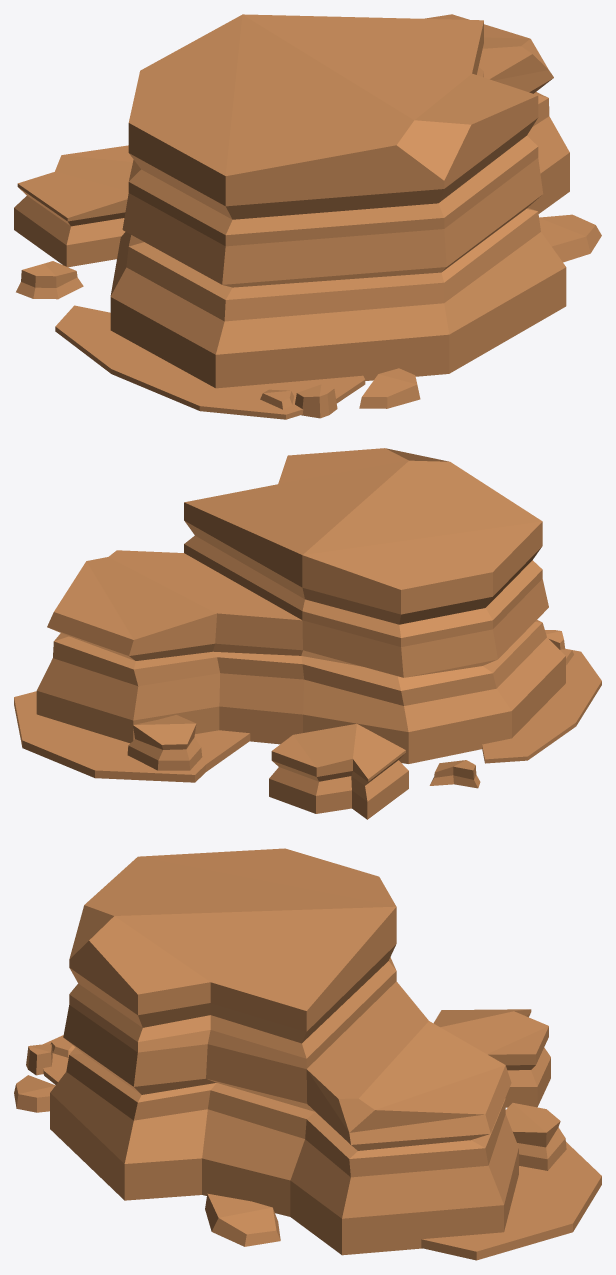
File: SandRocks_M1_LOD1.fbx
3 views of the same model, one above another, from view 1: azimuth 30°, elevation 25°; view 2: azimuth 150°, elevation 25°; view 3: azimuth 270°, elevation 25° (orthographic). The views are drawn at different scales.
Visible parts, largest first — view 1: Plane; view 2: Plane; view 3: Plane.
Boxes of the visible parts, x1,y1,x2,y2 form: Plane: (14, 14, 601, 419); Plane: (14, 448, 601, 819); Plane: (14, 848, 601, 1260).
Bounding box in the file's own units: 86.31 × 35.23 × 86.67.
